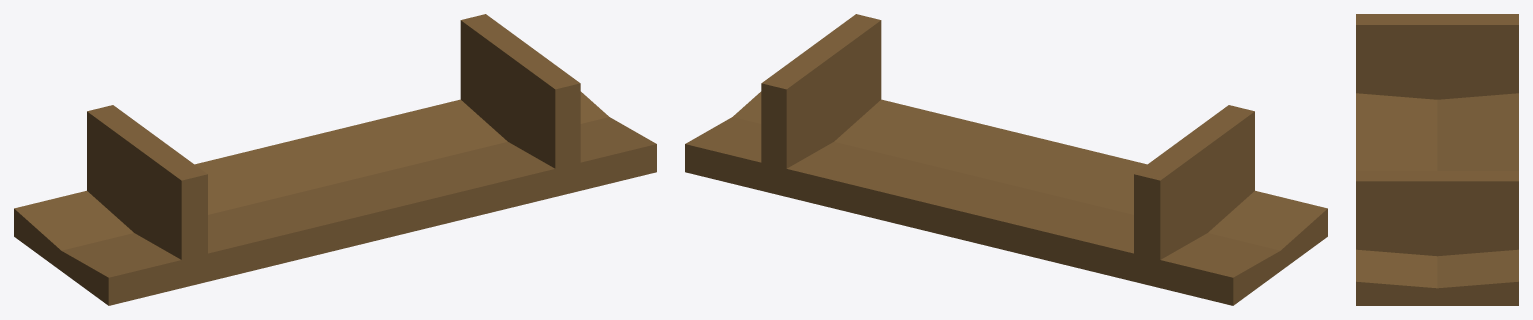
File: Mesa.fbx
3 views of the same model, side by side, from view 1: azimuth 30°, elevation 25°; view 2: azimuth 150°, elevation 25°; view 3: azimuth 270°, elevation 25° (orthographic). The views are drawn at different scales.
Parts seen in each view (by area): view 1: Cube; view 2: Cube; view 3: Cube.
Part boxes in pixels (box(x1,y1,x2,y2)): Cube: box(14, 14, 656, 305); Cube: box(685, 14, 1327, 305); Cube: box(1356, 14, 1518, 305).
Bounding box in the file's own units: 668 × 125 × 200.
